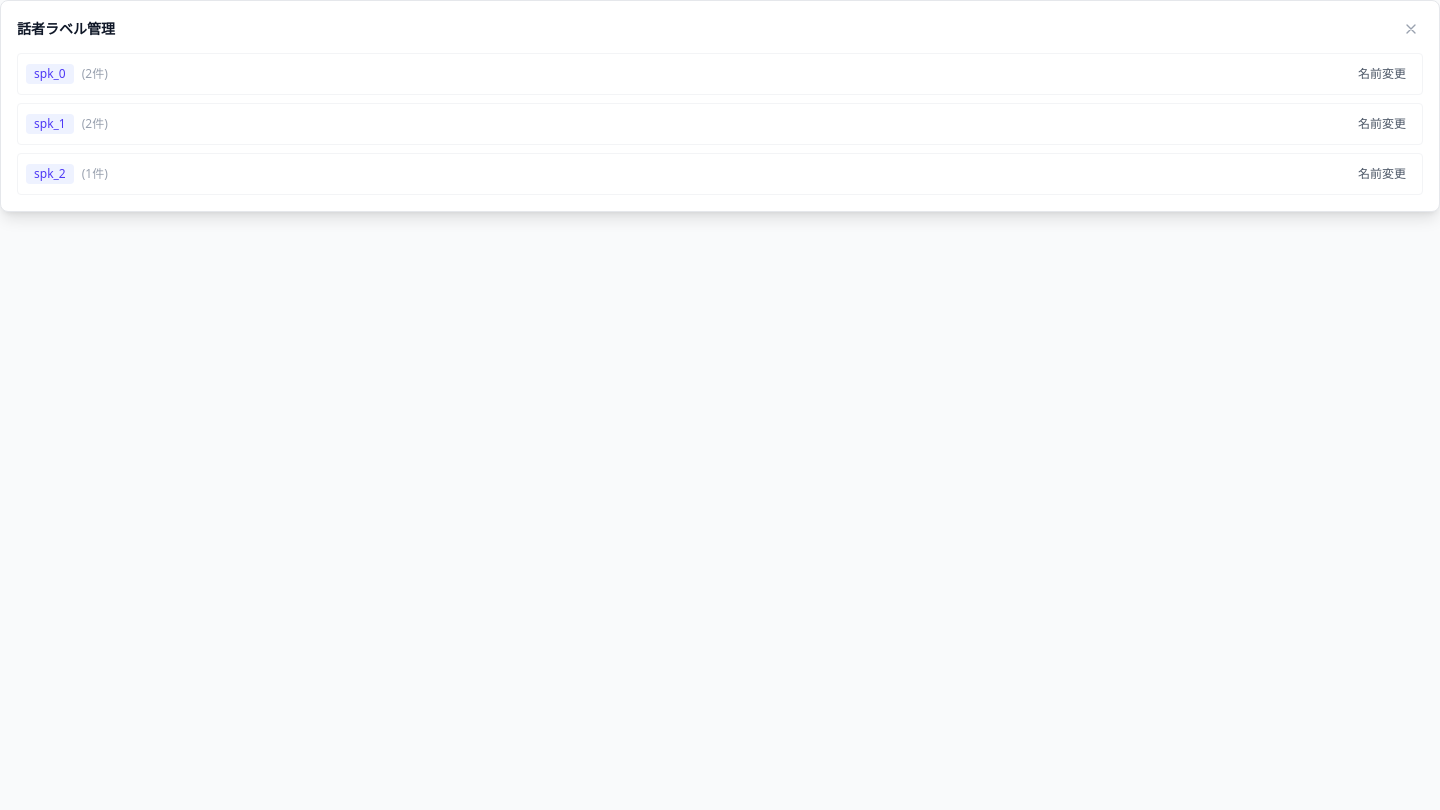
Test: SpeakerLabelManager › ラベル名重複時の確認ダイアログ (Requirement 2.17) › shows merge confirmation dialog when new name conflicts with existing label
Click the button with aria-label "spk_0 の名前変更": (1382, 74) [1350,62,1414,86]
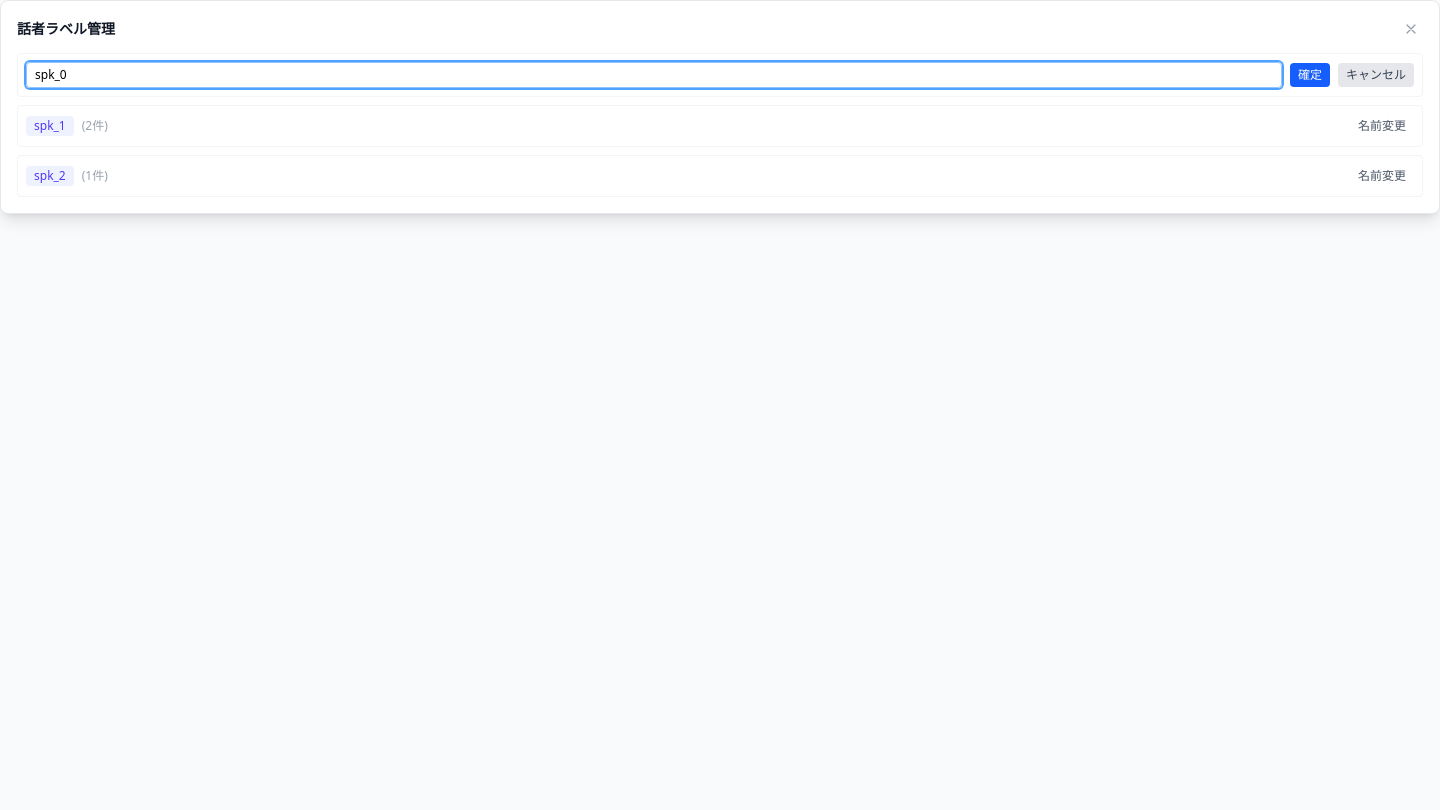
Replace the text in the field named "spk_0 の新しいラベル名" with "spk_1": (654, 75) [26,62,1282,88]
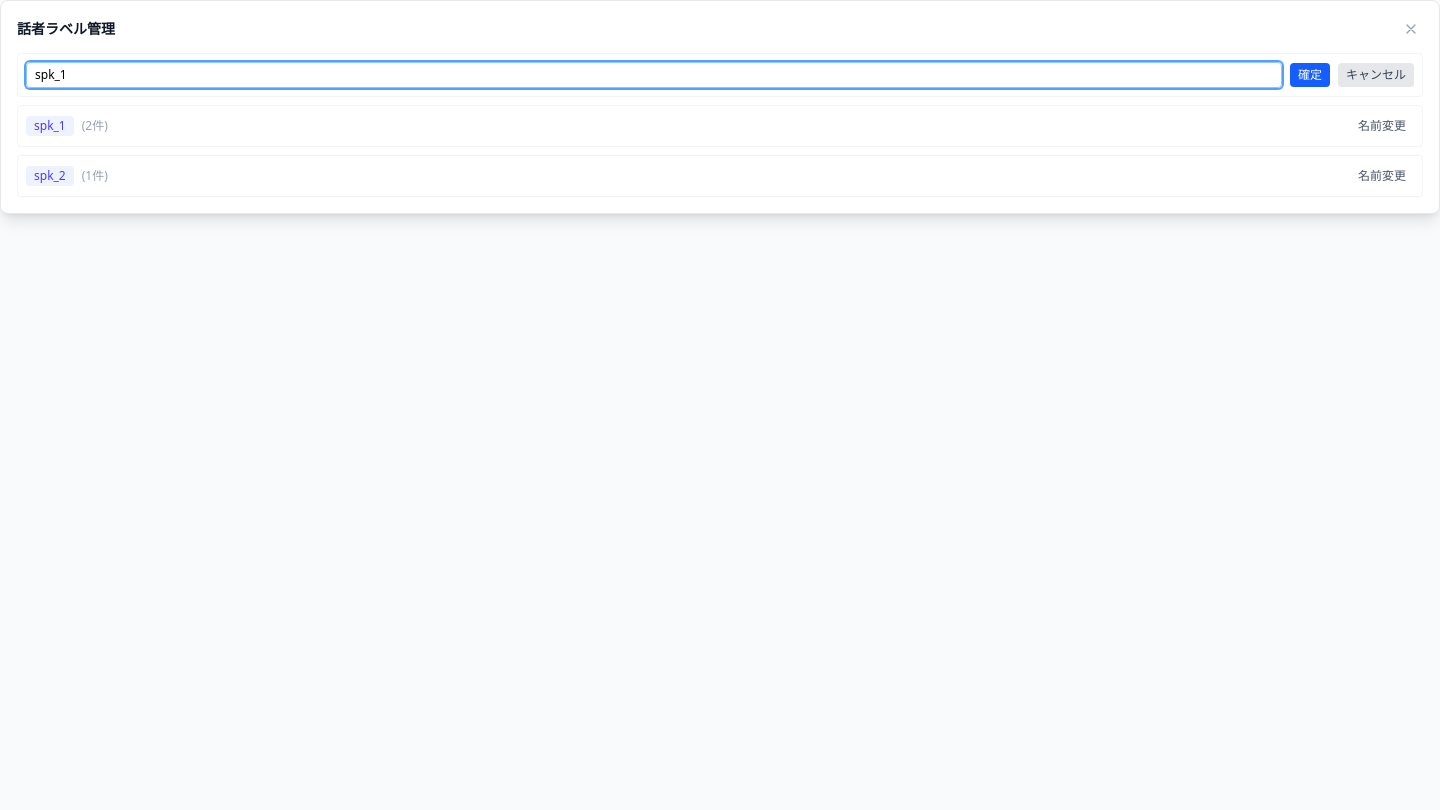
Click the button with aria-label "ラベル名変更を確定": (1310, 75) [1290,63,1330,87]
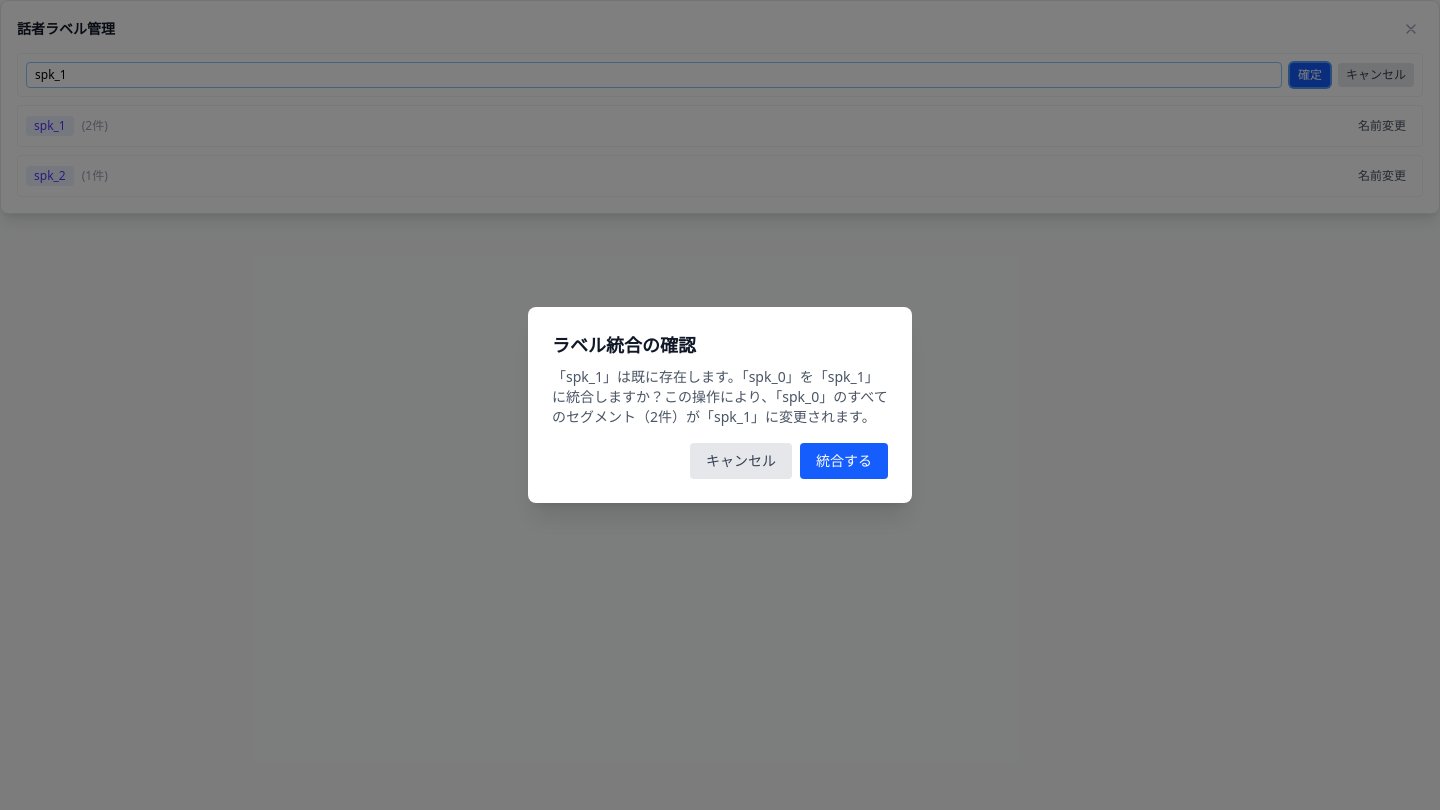
Expected: the dialog is shown
Expected: the text "「spk_1」は既に存在します" is shown, [552,367,888,427]
